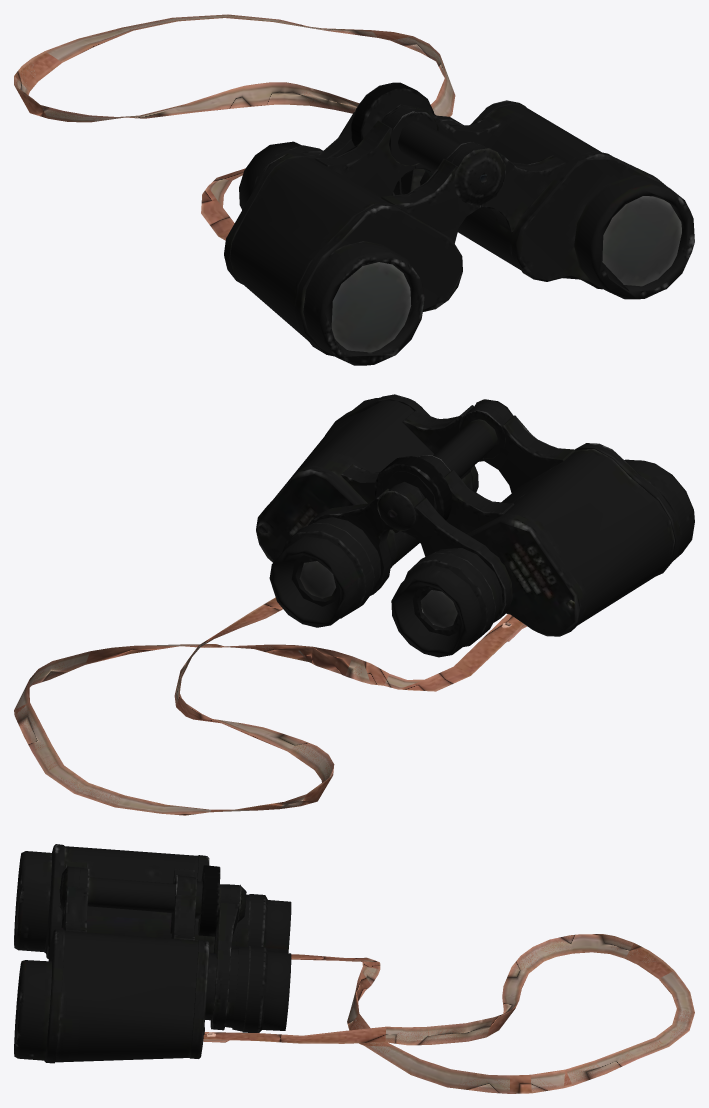
The model's file is binoculars.glb.
3 renders of one model, top to bottom at view 1: azimuth 30°, elevation 25°; view 2: azimuth 150°, elevation 25°; view 3: azimuth 270°, elevation 25°, orthographic. The views are drawn at different scales.
Parts seen in each view (by area): view 1: binoculars_left, binoculars_strap; view 2: binoculars_left, binoculars_strap; view 3: binoculars_left, binoculars_strap.
Part boxes in pixels (x1,y1,x2,y2): binoculars_left: (224, 82, 694, 365); binoculars_strap: (14, 14, 455, 240); binoculars_left: (256, 394, 694, 657); binoculars_strap: (14, 597, 526, 815); binoculars_left: (14, 844, 291, 1063); binoculars_strap: (203, 934, 694, 1093).
Size of the model in its own units: 0.1668 by 0.0657 by 0.2877.
Materials: 2 (2 with a texture image).
